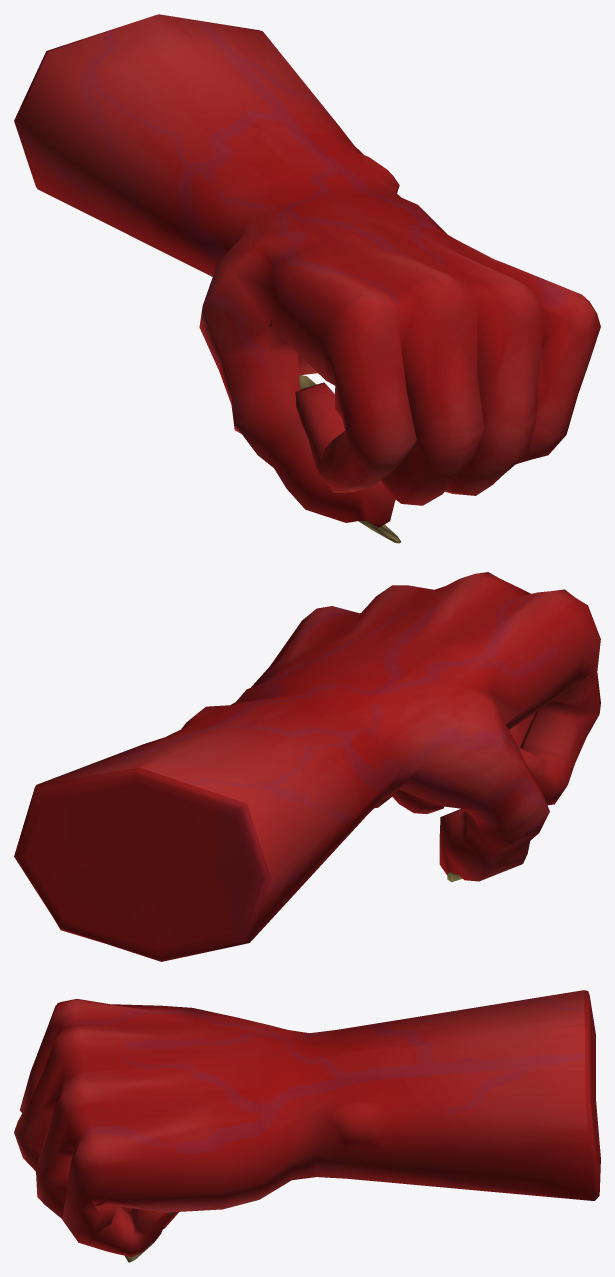
File: demon-hand_grab.FBX
The picture shows the model from 3 angles, top to bottom: view 1: azimuth 30°, elevation 25°; view 2: azimuth 150°, elevation 25°; view 3: azimuth 270°, elevation 25°; orthographic projection. The views are drawn at different scales.
Visible parts, largest first — view 1: demon_hand; view 2: demon_hand; view 3: demon_hand.
Part boxes in pixels (<box>): demon_hand: <box>14,14,600,543</box>; demon_hand: <box>14,572,600,961</box>; demon_hand: <box>14,990,600,1262</box>.
Size of the model in its own units: 10.32 by 10.12 by 21.23.
1 material, 1 textured.
